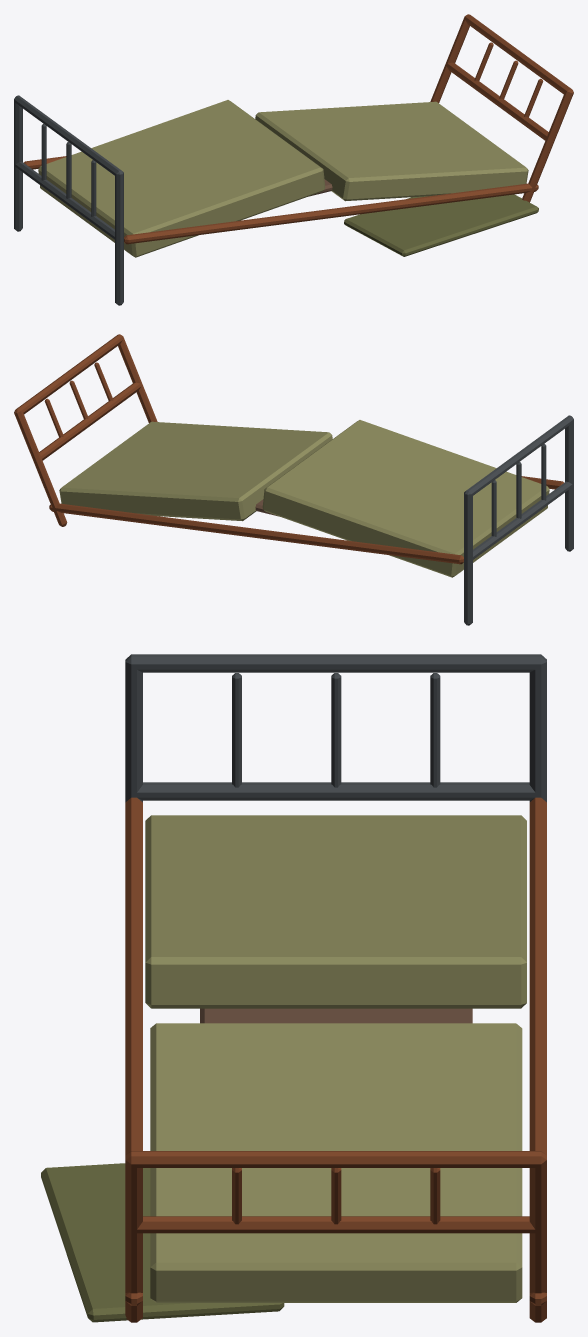
The model's file is bed_single_zheleznaya_koyka_broken.glb.
3 renders of one model, top to bottom at view 1: azimuth 30°, elevation 25°; view 2: azimuth 150°, elevation 25°; view 3: azimuth 270°, elevation 25°, orthographic. The views are drawn at different scales.
Visible parts, largest first — view 1: bed_single_zheleznaya_koyka_broken; view 2: bed_single_zheleznaya_koyka_broken; view 3: bed_single_zheleznaya_koyka_broken.
Boxes of the visible parts, x1,y1,x2,y2 form: bed_single_zheleznaya_koyka_broken: (14,14,573,305); bed_single_zheleznaya_koyka_broken: (14,334,573,625); bed_single_zheleznaya_koyka_broken: (41,654,546,1322).
Size of the model in its own units: 2.13 by 0.6025 by 1.02.
1 material, 1 textured.
